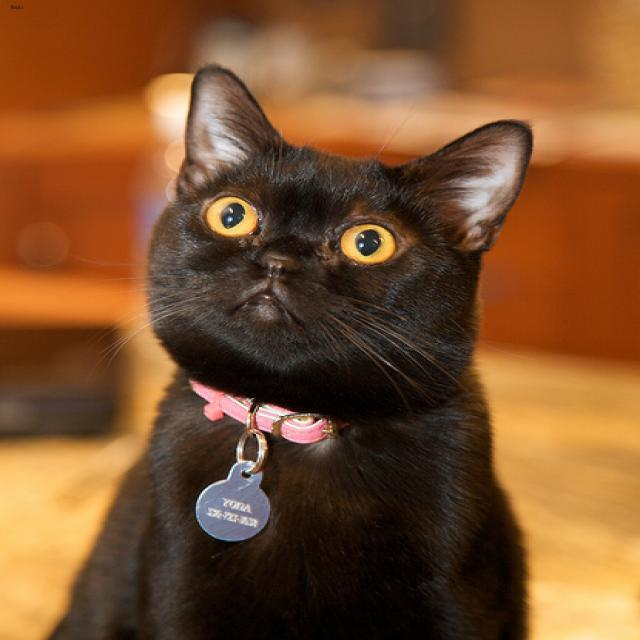Bombay: (148, 62, 531, 363)
